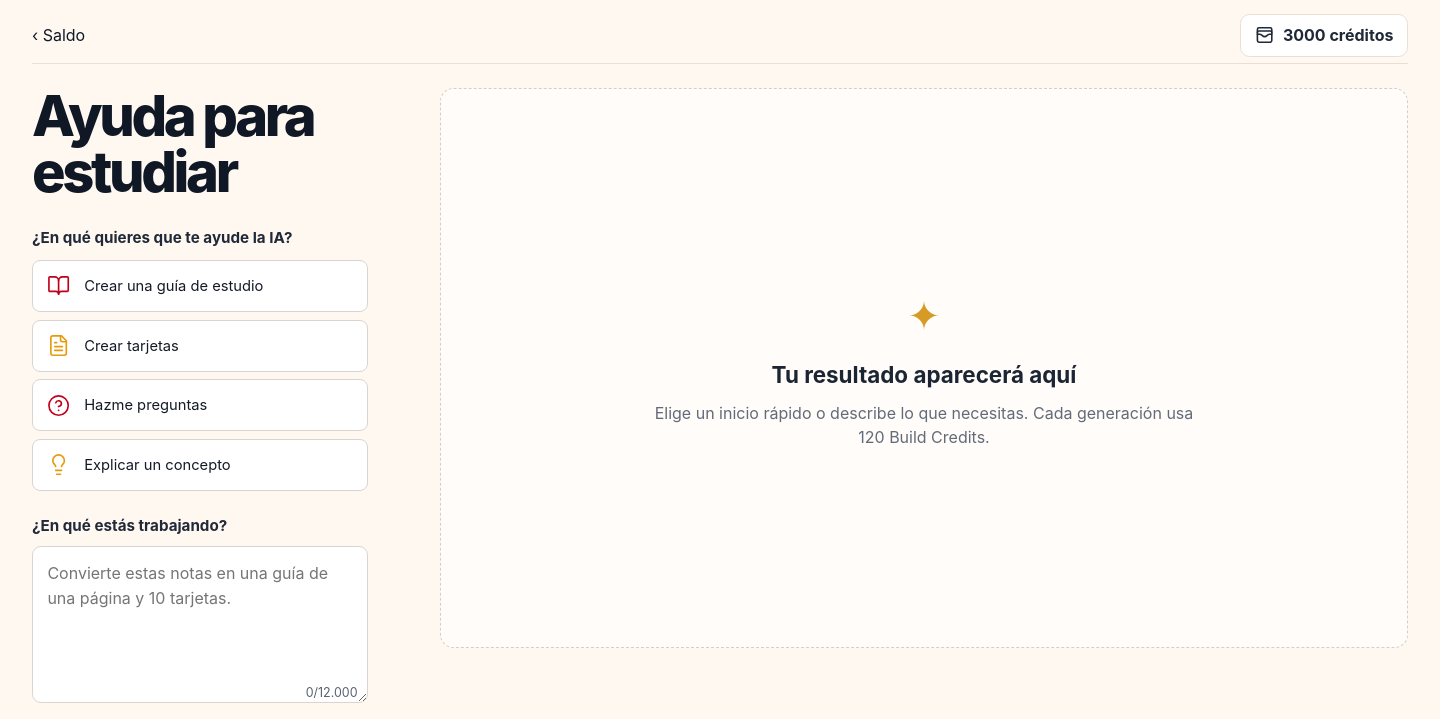
Scenario: TaskShell › maps a paused save response to localized pause guidance in es
Click the button "Crear una guía de estudio" at coordinates (200, 286), box [32,260,368,312]
(page scrolled)
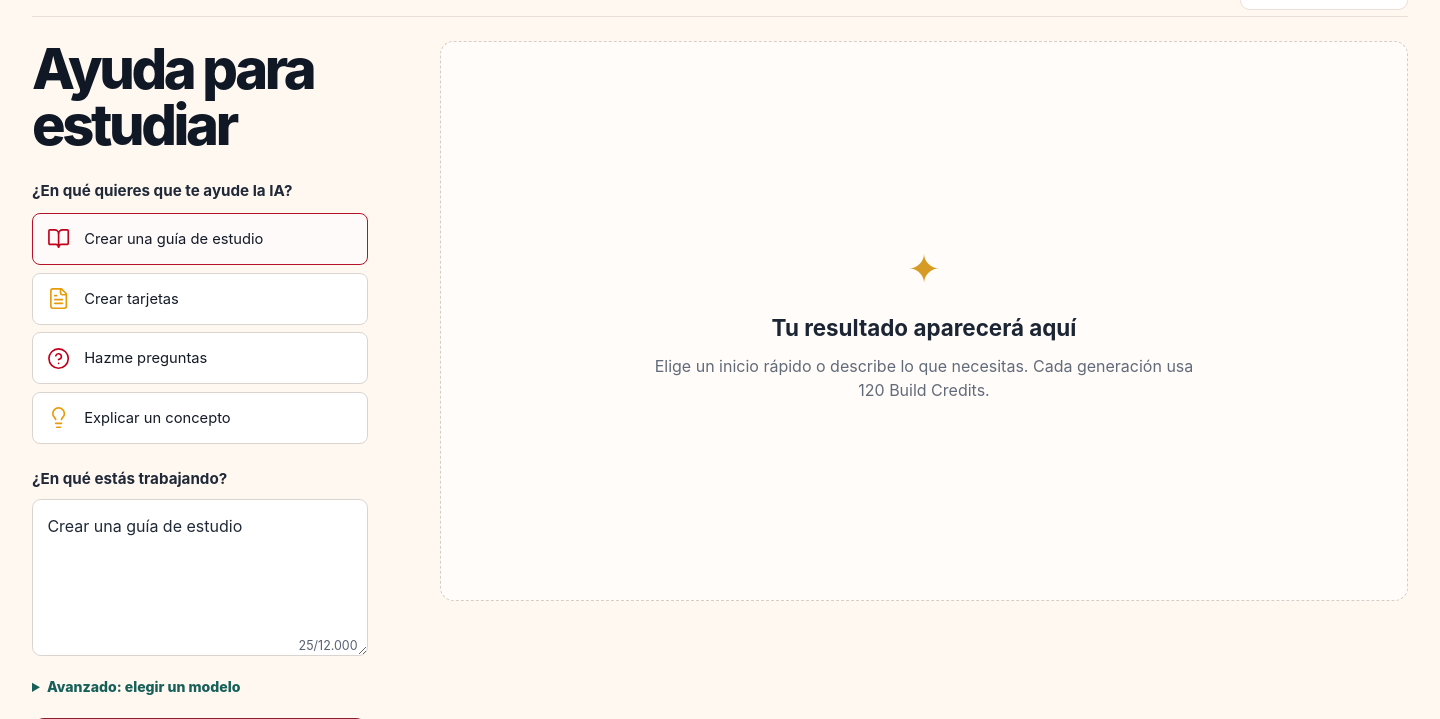
Submit the form
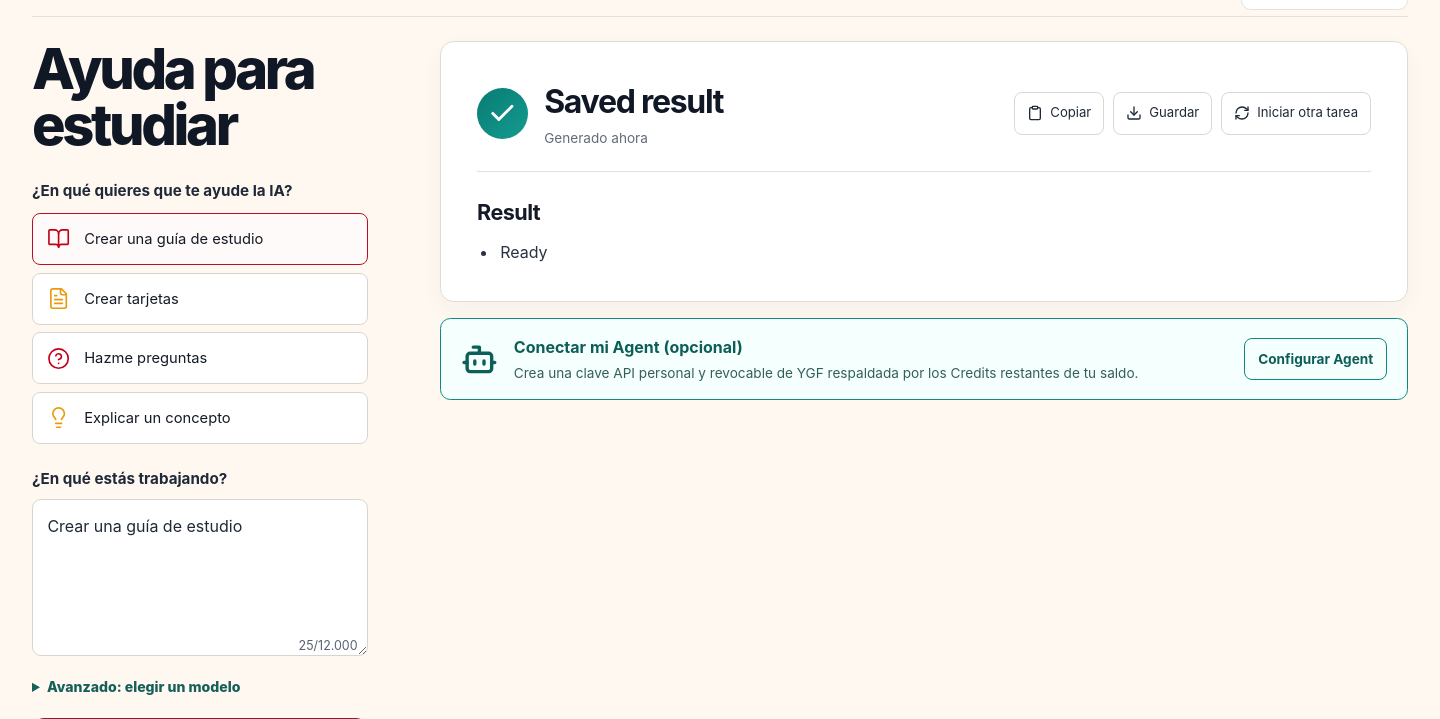
Now the button "Guardar" is shown
Click the button "Guardar" at coordinates (1163, 113), box [1113,92,1212,135]
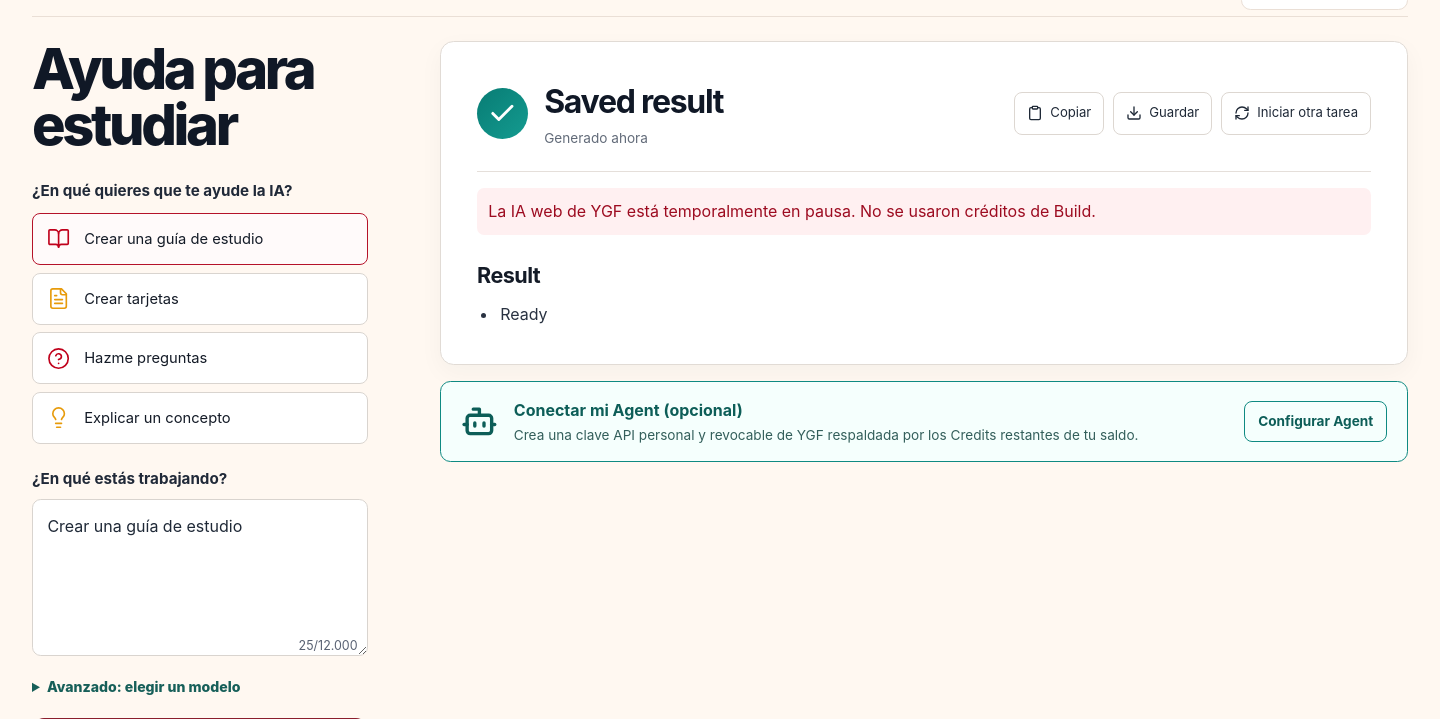
Now the text "La IA web de YGF está temporalmente en pausa. No se usaron créditos de Build." is shown, box [477,188,1371,235]
